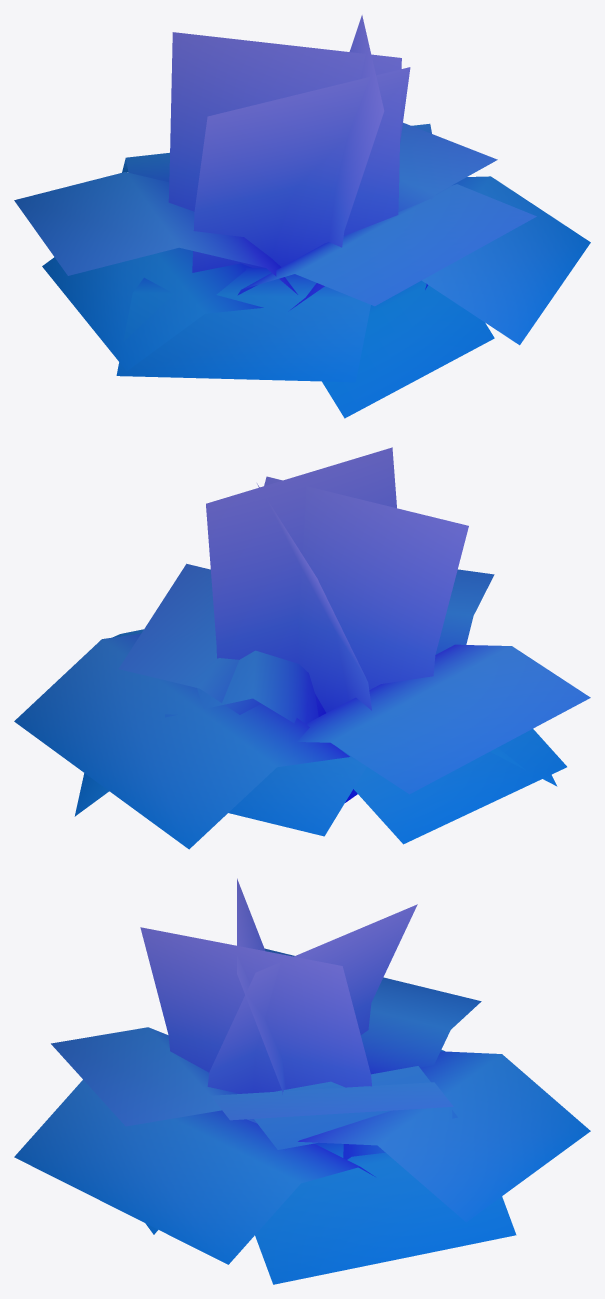
Rendered from SM_Env_Grass_Bush_01.FBX.
3 views of the same model, one above another, from view 1: azimuth 30°, elevation 25°; view 2: azimuth 150°, elevation 25°; view 3: azimuth 270°, elevation 25° (orthographic). The views are drawn at different scales.
Parts seen in each view (by area): view 1: SM_Env_Grass_Bush_01; view 2: SM_Env_Grass_Bush_01; view 3: SM_Env_Grass_Bush_01.
Part boxes in pixels (box(x1,y1,x2,y2)): SM_Env_Grass_Bush_01: box(14, 15, 590, 418); SM_Env_Grass_Bush_01: box(14, 447, 590, 849); SM_Env_Grass_Bush_01: box(14, 878, 590, 1284).
Size of the model in its own units: 228 by 231 by 120.
